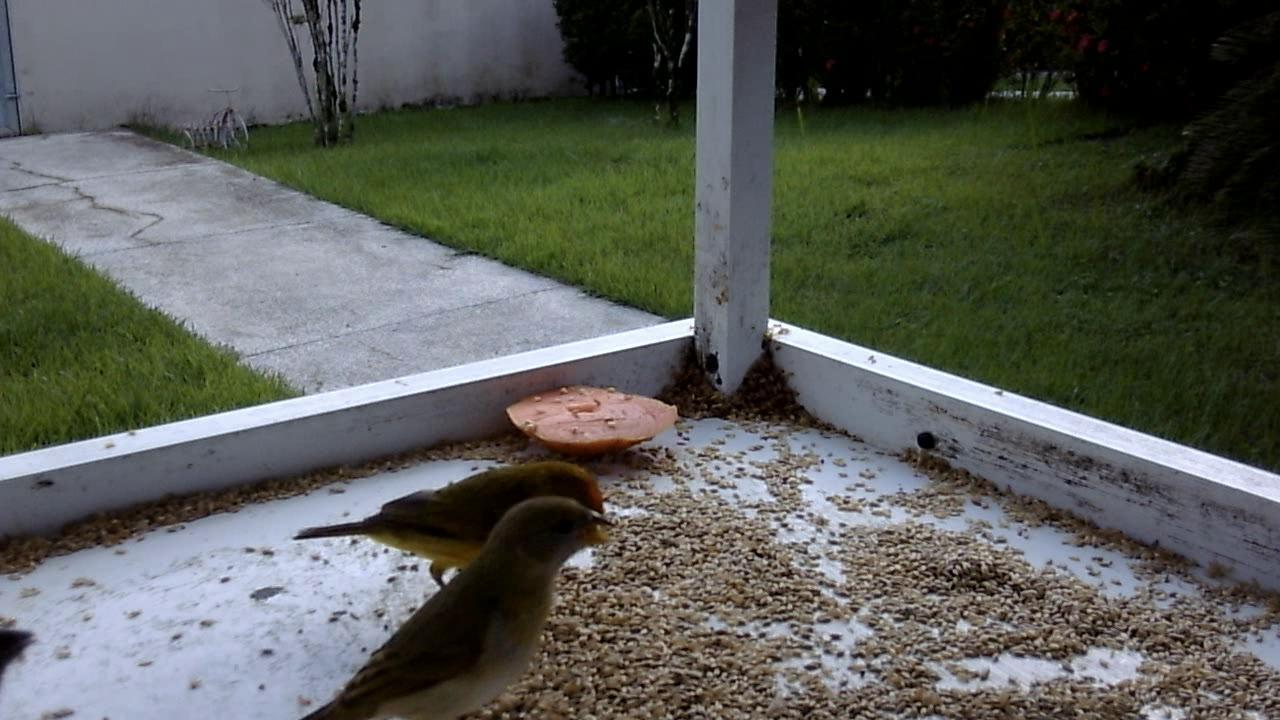canario_do_amazonas: (290, 501, 611, 713), (293, 447, 606, 593)
